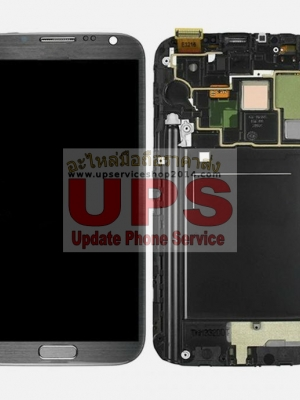Phone: (152, 29, 300, 369), (1, 30, 146, 368)
